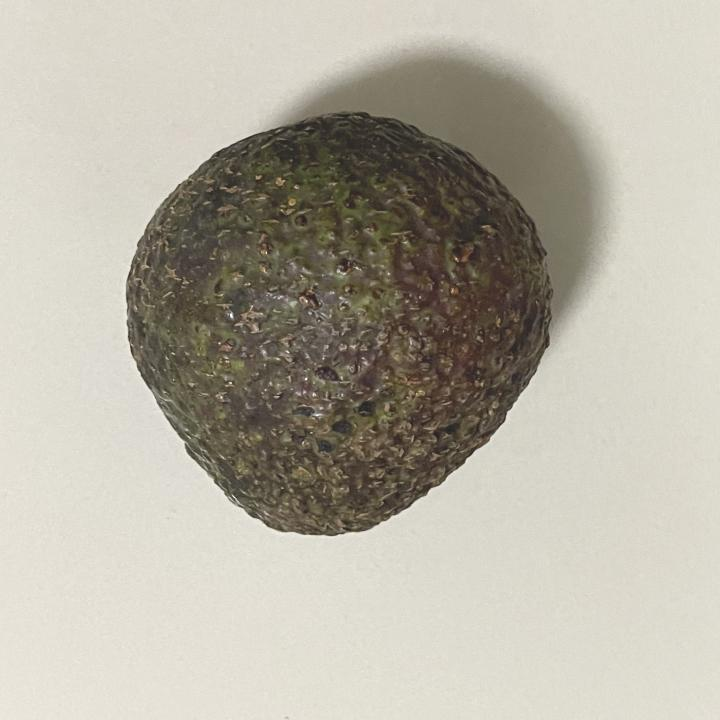Level1: (106, 103, 568, 556)
